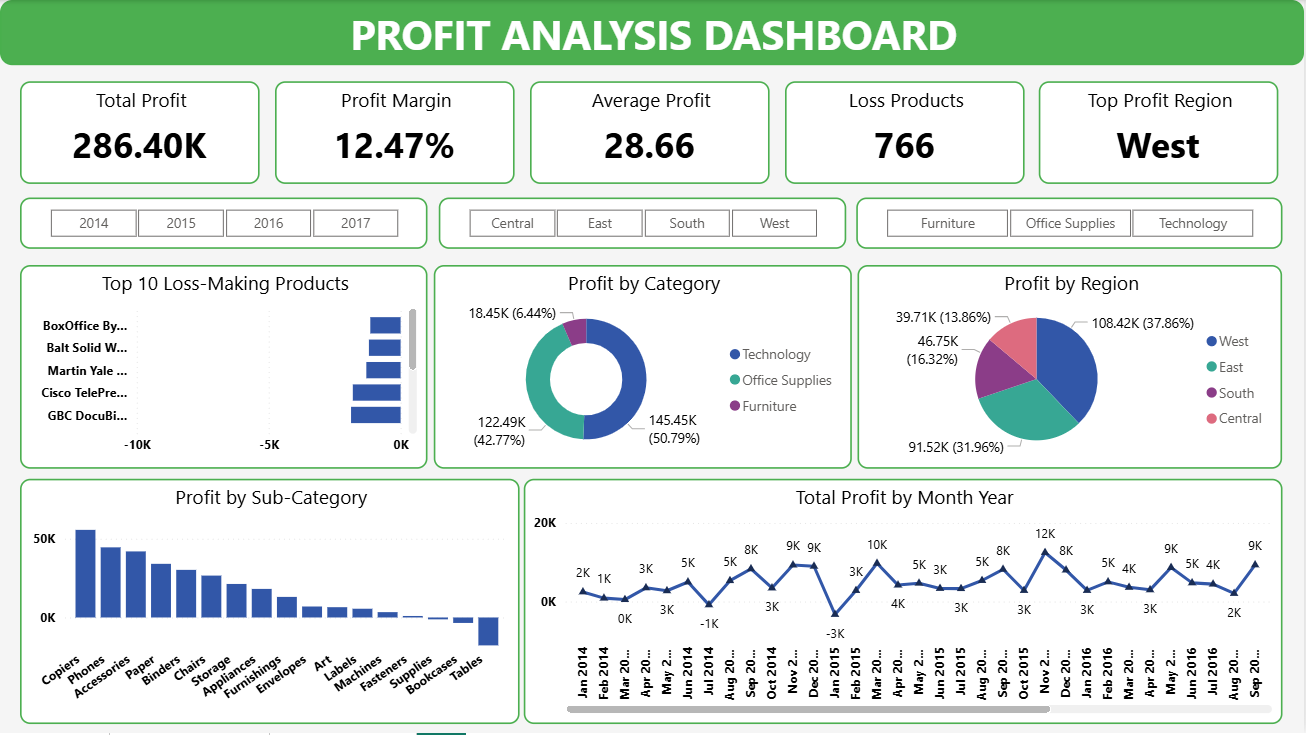

What the dashboard file says about the page in this screenshot:
{"tool":"powerbi","page":{"name":"Profit Analysis","canvas":[1280,720],"ordinal":2},"visuals":[{"type":"textbox","title":"PROFIT ANALYSIS DASHBOARD","box":[0,0,1280,64],"z":0},{"type":"pieChart","title":"Profit by Region","fields":{"Category":["Sales.Region"],"Y":["Sales.Total Profit"]},"box":[841.7,260.1,417.2,200],"z":1000},{"type":"clusteredColumnChart","title":"Profit by Sub-Category","fields":{"Category":["Sales.Sub-Category"],"Y":["Sales.Total Profit"]},"box":[20,470,490,240.5],"z":2000},{"type":"donutChart","title":"Profit by Category","fields":{"Category":["Sales.Category"],"Y":["Sales.Total Profit"]},"box":[426,260.1,410,200],"z":3000},{"type":"clusteredBarChart","title":"Top 10 Loss-Making Products","fields":{"Category":["Sales.Product Name"],"Y":["Sales.Total Profit"]},"box":[20,260,400,200],"z":4000},{"type":"card","title":"Total Profit","fields":{"Values":["Sales.Total Profit"]},"box":[20,80,235,100.6],"z":5000},{"type":"card","title":"Average Profit","fields":{"Values":["Sales.Average Profit"]},"box":[520,80,235,100.6],"z":6000},{"type":"card","title":"Profit Margin","fields":{"Values":["Sales.Profit Margin"]},"box":[270,80,235,100.6],"z":7000},{"type":"card","title":"Loss Products","fields":{"Values":["Sales.Loss Products"]},"box":[770,80,235,100.6],"z":8000},{"type":"card","title":"Top Profit Region","fields":{"Values":["Sales.Best Region"]},"box":[1020,79.8,235,100.6],"z":9000},{"type":"slicer","fields":{"Values":["DateTable.Year"]},"box":[20,193.9,400,50.3],"z":10000},{"type":"slicer","fields":{"Values":["Sales.Region"]},"box":[430.7,193.9,400,50.3],"z":11000},{"type":"slicer","fields":{"Values":["Sales.Category"]},"box":[840.5,193.9,418.4,50.3],"z":12000},{"type":"lineChart","fields":{"Category":["Sales.Month Year"],"Y":["Sales.Total Profit"]},"box":[514.1,469.9,744.8,240.5],"z":13000}]}

Visuals, with their boxes in screenshot pixels (x1, y1, x2, y2), scaled from the page's 1280x720 canvas onto the 1306x735 screenshot:
"PROFIT ANALYSIS DASHBOARD" textbox: <region>0, 0, 1305, 65</region>
"Profit by Region" pieChart: <region>859, 266, 1284, 470</region>
"Profit by Sub-Category" clusteredColumnChart: <region>20, 480, 520, 725</region>
"Profit by Category" donutChart: <region>435, 266, 853, 470</region>
"Top 10 Loss-Making Products" clusteredBarChart: <region>20, 265, 429, 470</region>
"Total Profit" card: <region>20, 82, 260, 184</region>
"Average Profit" card: <region>531, 82, 770, 184</region>
"Profit Margin" card: <region>275, 82, 515, 184</region>
"Loss Products" card: <region>786, 82, 1025, 184</region>
"Top Profit Region" card: <region>1041, 81, 1280, 184</region>
slicer - DateTable.Year: <region>20, 198, 429, 249</region>
slicer - Sales.Region: <region>439, 198, 848, 249</region>
slicer - Sales.Category: <region>858, 198, 1284, 249</region>
lineChart - Sales.Month Year x Sales.Total Profit: <region>525, 480, 1284, 725</region>
